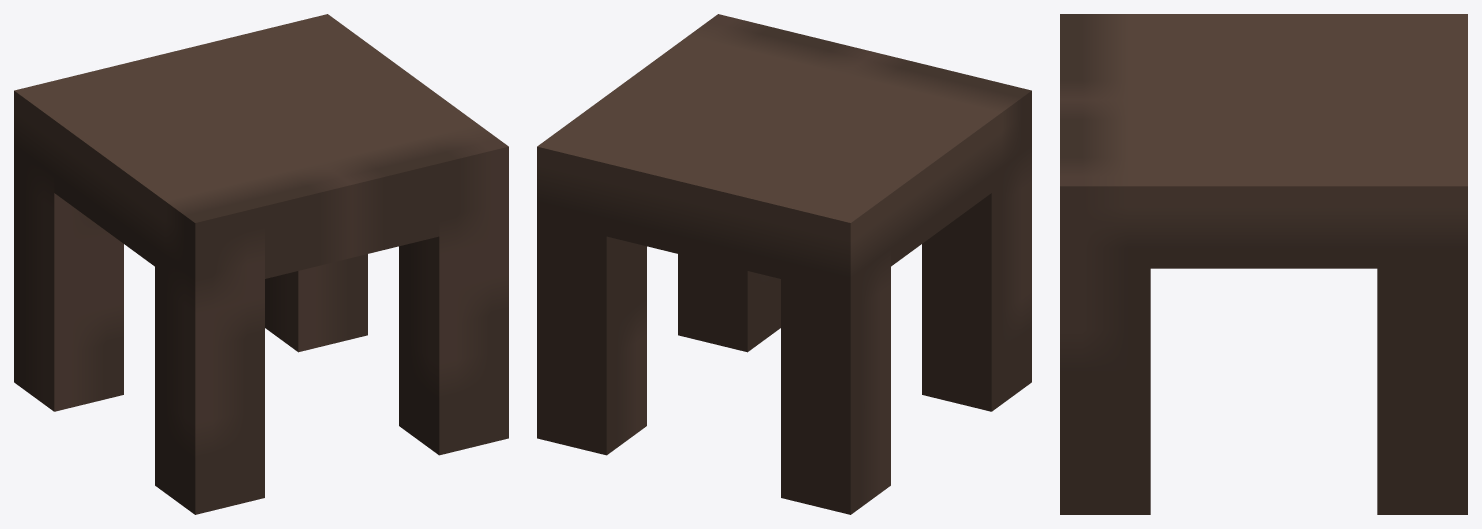
File: Chair_Wooden-2_00.fbx
The picture shows the model from 3 angles, left to right: view 1: azimuth 30°, elevation 25°; view 2: azimuth 150°, elevation 25°; view 3: azimuth 270°, elevation 25°; orthographic projection. The views are drawn at different scales.
Visible parts, largest first — view 1: Chair_Wooden-2_00; view 2: Chair_Wooden-2_00; view 3: Chair_Wooden-2_00.
Boxes of the visible parts, x1=… form: Chair_Wooden-2_00: x1=14, y1=14, x2=508, y2=514; Chair_Wooden-2_00: x1=537, y1=14, x2=1031, y2=514; Chair_Wooden-2_00: x1=1060, y1=14, x2=1467, y2=514.
Size of the model in its own units: 45 by 40 by 45.
